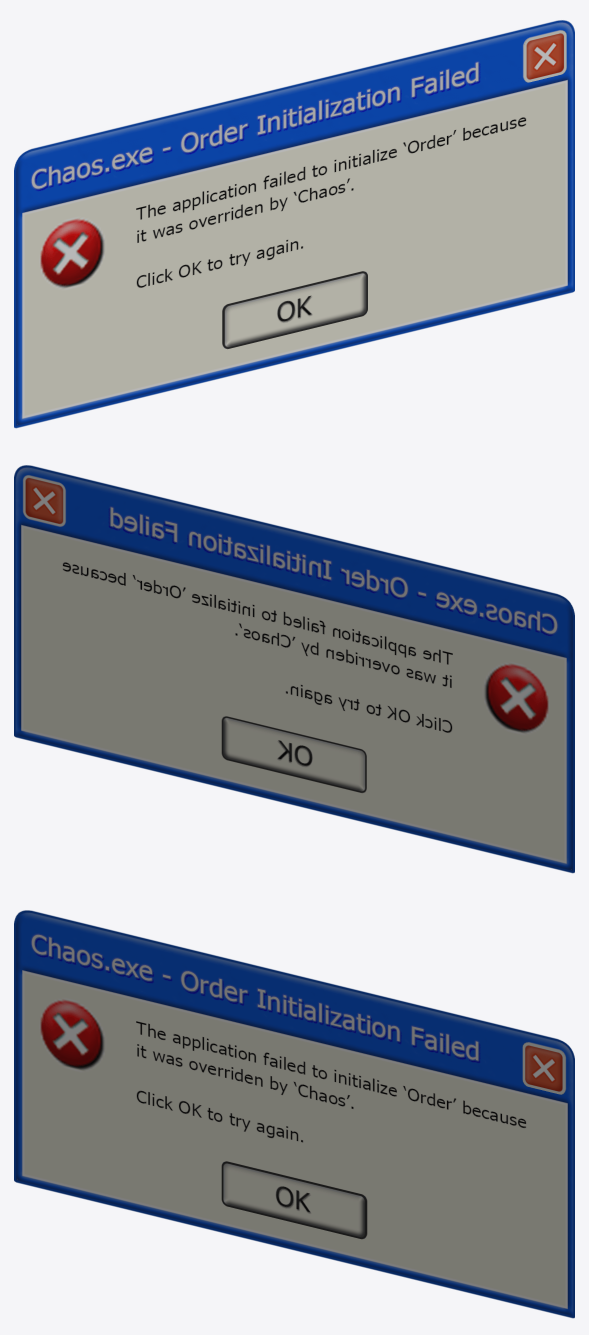
The model's file is errorNew.glb.
3 views of the same model, one above another, from view 1: azimuth 30°, elevation 25°; view 2: azimuth 150°, elevation 25°; view 3: azimuth 330°, elevation 25° (orthographic).
Parts seen in each view (by area): view 1: errorWindow, error_OK_OG, error_Close_OG; view 2: errorWindow; view 3: errorWindow, error_OK_OG, error_Close_OG.
Boxes of the visible parts, bbox=[...] form: errorWindow: bbox=[14, 20, 574, 428]; error_OK_OG: bbox=[223, 271, 367, 348]; error_Close_OG: bbox=[524, 30, 566, 82]; errorWindow: bbox=[14, 465, 574, 873]; errorWindow: bbox=[14, 910, 574, 1318]; error_OK_OG: bbox=[221, 1161, 366, 1238]; error_Close_OG: bbox=[522, 1042, 564, 1094].
Size of the model in its own units: 52.27 by 24.91 by 0.114.
Materials: 7 (7 with a texture image).
